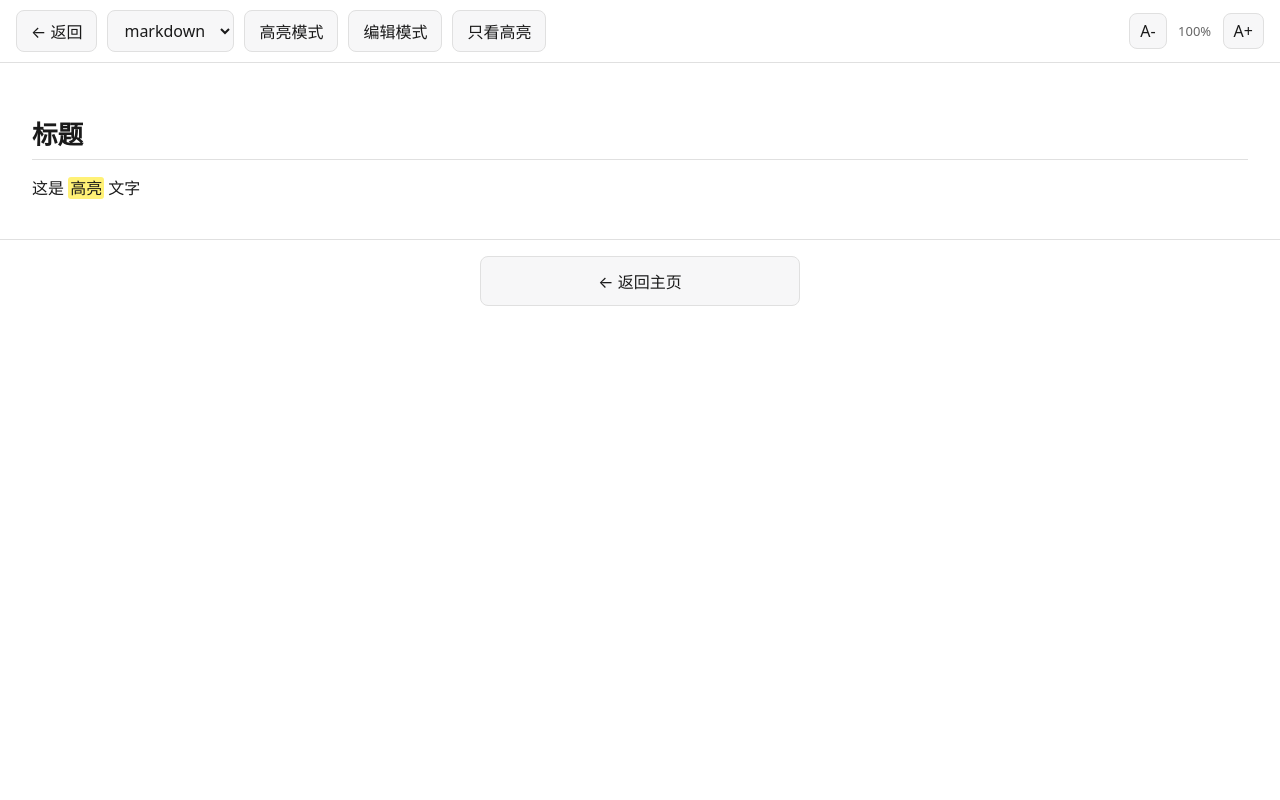
PreviewScreen edit mode (markdown only) › 进入编辑模式后显示 textarea
The width and height of the screenshot is (1280, 800).
Click the button "编辑模式": (396, 31) x1=348 y1=10 x2=442 y2=52
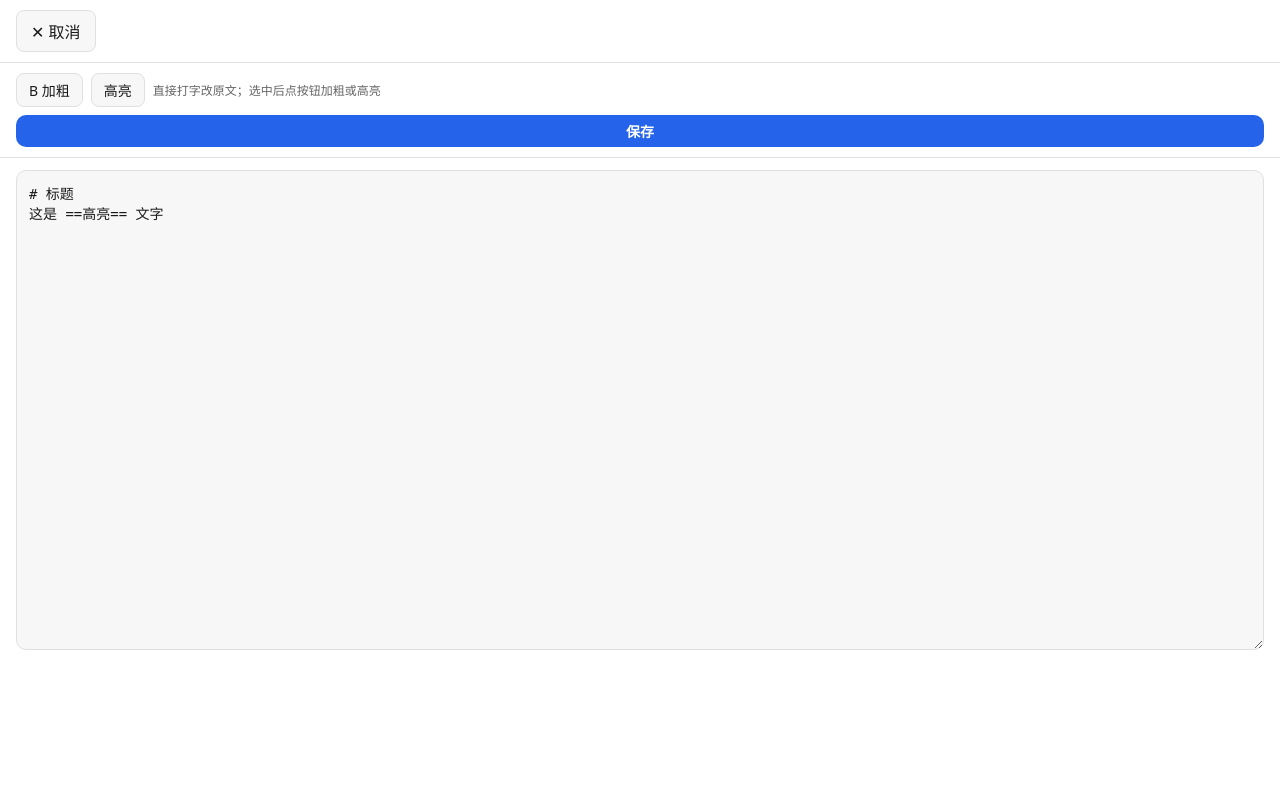
Expected: the text box is shown, x1=16 y1=170 x2=1264 y2=650
